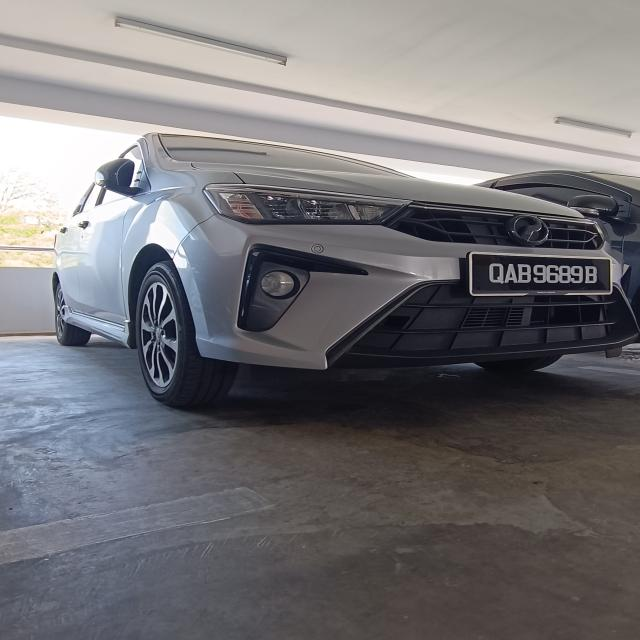PeroduaBezza: (49, 131, 638, 409)
